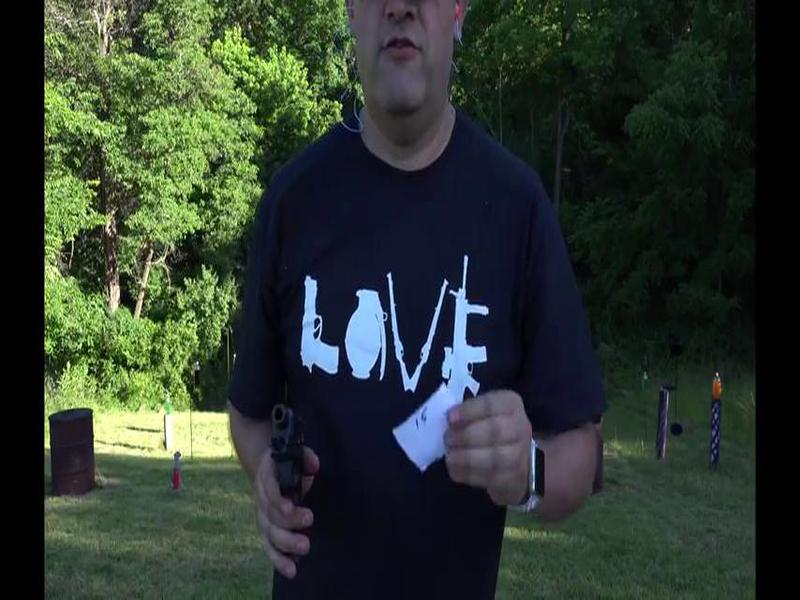Pistola: (251, 392, 323, 545)
